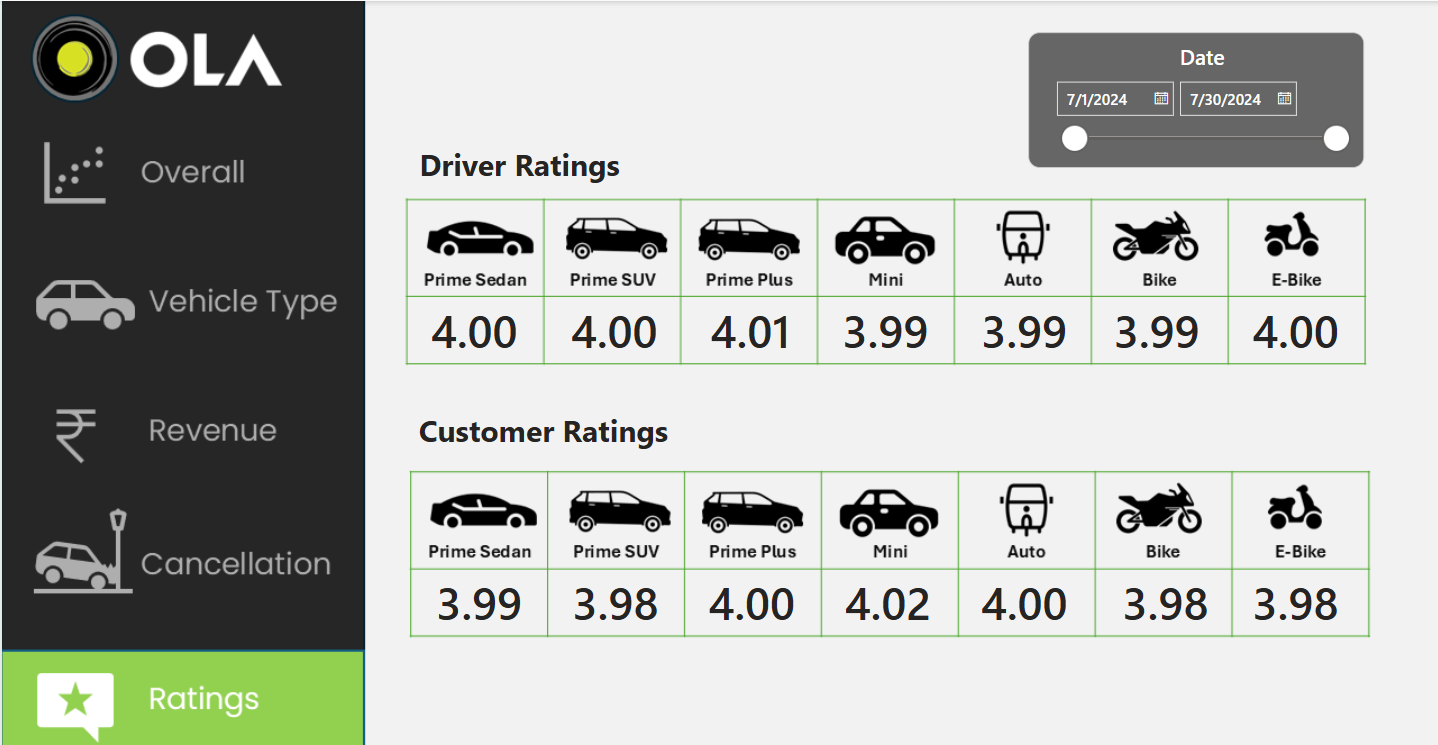

What the dashboard file says about the page in this screenshot:
{"tool":"powerbi","page":{"name":"Ratings","canvas":[1280,720],"ordinal":4},"visuals":[{"type":"actionButton","box":[0,220.8,324.5,90.5],"z":0},{"type":"actionButton","box":[0,340.2,324.5,90.5],"z":1000},{"type":"actionButton","box":[0,447.6,324.5,90.5],"z":2000},{"type":"actionButton","box":[0,111,324.5,90.5],"z":3000},{"type":"card","fields":{"Values":["Avg(Ola_bookings.Driver_Ratings)"]},"box":[365,266.2,111.1,54.9],"z":3001},{"type":"card","fields":{"Values":["Avg(Ola_bookings.Driver_Ratings)"]},"box":[489.9,266.2,111.1,54.9],"z":3002},{"type":"card","fields":{"Values":["Avg(Ola_bookings.Driver_Ratings)"]},"box":[610.6,266.2,111.1,54.9],"z":3003},{"type":"card","fields":{"Values":["Avg(Ola_bookings.Driver_Ratings)"]},"box":[731.4,266.2,111.1,54.9],"z":3004},{"type":"card","fields":{"Values":["Avg(Ola_bookings.Driver_Ratings)"]},"box":[854.9,266.2,111.1,54.9],"z":3005},{"type":"card","fields":{"Values":["Avg(Ola_bookings.Driver_Ratings)"]},"box":[972.9,266.2,111.1,54.9],"z":3006},{"type":"card","fields":{"Values":["Avg(Ola_bookings.Driver_Ratings)"]},"box":[1096.4,266.2,111.1,54.9],"z":3007},{"type":"card","fields":{"Values":["Avg(Ola_bookings.Customer_Rating)"]},"box":[369.1,507.7,111.1,54.9],"z":3008},{"type":"card","fields":{"Values":["Avg(Ola_bookings.Customer_Rating)"]},"box":[491.3,507.7,111.1,54.9],"z":3009},{"type":"card","fields":{"Values":["Avg(Ola_bookings.Customer_Rating)"]},"box":[612,507.7,111.1,54.9],"z":3010},{"type":"card","fields":{"Values":["Avg(Ola_bookings.Customer_Rating)"]},"box":[1096.4,507.7,111.1,54.9],"z":3011},{"type":"card","fields":{"Values":["Avg(Ola_bookings.Customer_Rating)"]},"box":[854.9,507.7,111.1,54.9],"z":3012},{"type":"card","fields":{"Values":["Avg(Ola_bookings.Customer_Rating)"]},"box":[734.1,507.7,111.1,54.9],"z":3013},{"type":"card","fields":{"Values":["Avg(Ola_bookings.Customer_Rating)"]},"box":[981.1,507.7,111.1,54.9],"z":3014},{"type":"textbox","box":[351.3,122.1,218.2,50.8],"z":3015},{"type":"textbox","box":[351.3,359.5,260.7,50.8],"z":3016},{"type":"slicer","title":"Date","fields":{"Values":["Ola_bookings.Date"]},"box":[913.9,27.4,299.1,120.8],"z":3017}]}

Visuals, with their boxes on the page's 1280x720 design canvas (x1, y1, x2, y2). These are canvas units, not pixel positions in the 1438x745 screenshot, which may show the page scaled, cropped or inside an application window:
actionButton: Rect(0, 221, 324, 311)
actionButton: Rect(0, 340, 324, 431)
actionButton: Rect(0, 448, 324, 538)
actionButton: Rect(0, 111, 324, 202)
card - Avg(Ola_bookings.Driver_Ratings): Rect(365, 266, 476, 321)
card - Avg(Ola_bookings.Driver_Ratings): Rect(490, 266, 601, 321)
card - Avg(Ola_bookings.Driver_Ratings): Rect(611, 266, 722, 321)
card - Avg(Ola_bookings.Driver_Ratings): Rect(731, 266, 842, 321)
card - Avg(Ola_bookings.Driver_Ratings): Rect(855, 266, 966, 321)
card - Avg(Ola_bookings.Driver_Ratings): Rect(973, 266, 1084, 321)
card - Avg(Ola_bookings.Driver_Ratings): Rect(1096, 266, 1208, 321)
card - Avg(Ola_bookings.Customer_Rating): Rect(369, 508, 480, 563)
card - Avg(Ola_bookings.Customer_Rating): Rect(491, 508, 602, 563)
card - Avg(Ola_bookings.Customer_Rating): Rect(612, 508, 723, 563)
card - Avg(Ola_bookings.Customer_Rating): Rect(1096, 508, 1208, 563)
card - Avg(Ola_bookings.Customer_Rating): Rect(855, 508, 966, 563)
card - Avg(Ola_bookings.Customer_Rating): Rect(734, 508, 845, 563)
card - Avg(Ola_bookings.Customer_Rating): Rect(981, 508, 1092, 563)
textbox: Rect(351, 122, 570, 173)
textbox: Rect(351, 360, 612, 410)
"Date" slicer: Rect(914, 27, 1213, 148)
